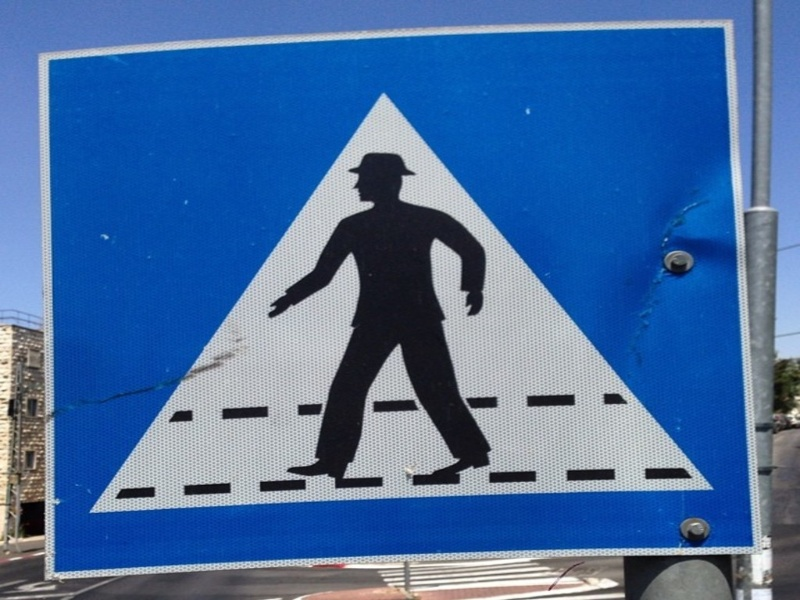pedestrian_crossing_ahead: (48, 56, 748, 542)
